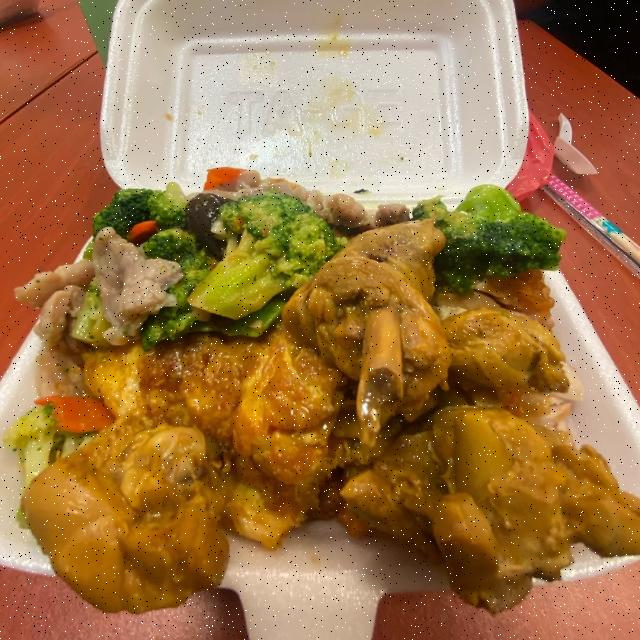Bones: (357, 306, 403, 444)
Chicken: (283, 219, 563, 453), (340, 404, 639, 611), (21, 420, 228, 612)
Egg: (83, 329, 343, 549)
Green veg: (94, 171, 564, 349), (6, 408, 82, 469)
Non green veg: (36, 396, 114, 433), (203, 168, 245, 190)
Pork: (16, 229, 181, 350), (273, 181, 366, 227)
